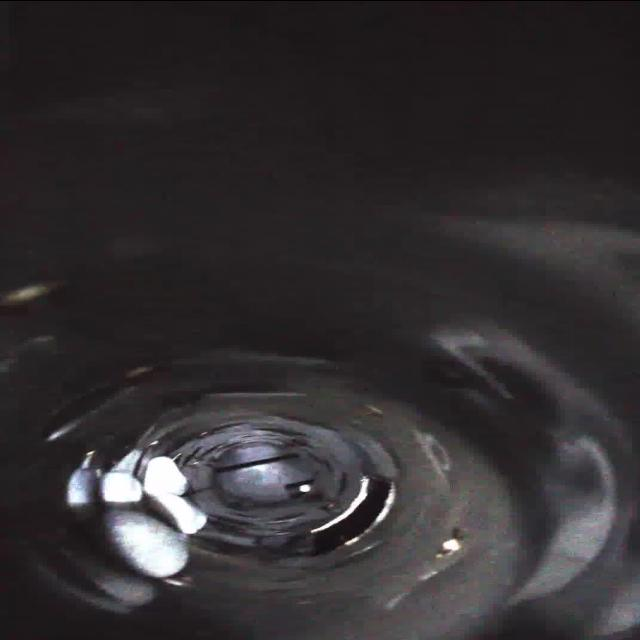crack: (204, 406, 324, 439), (202, 512, 296, 550), (158, 444, 206, 486)
hole: (310, 474, 404, 558)
